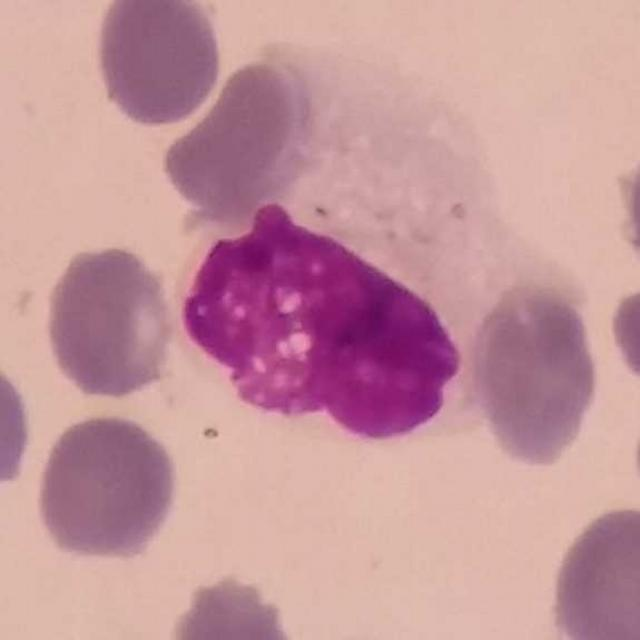Monocyte: (167, 169, 489, 433)
RBC: (300, 275, 468, 448), (462, 276, 605, 471), (156, 52, 316, 224), (30, 408, 184, 564), (40, 239, 180, 403), (89, 0, 226, 130), (544, 500, 640, 640), (160, 569, 312, 640), (0, 349, 37, 506), (611, 126, 640, 296), (604, 272, 640, 408), (628, 385, 640, 528)
